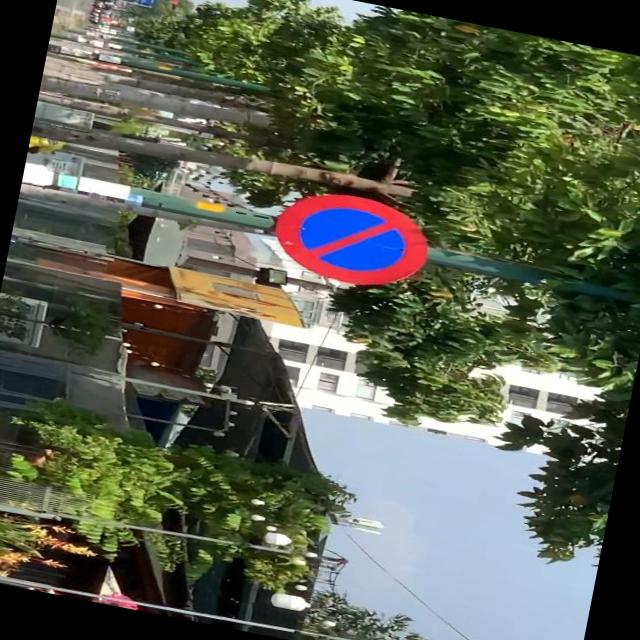P-131a: (266, 180, 434, 298)
